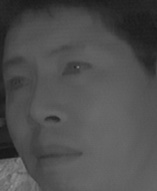eye: (59, 57, 97, 79), (3, 74, 33, 94)
mouth: (31, 139, 82, 171)
